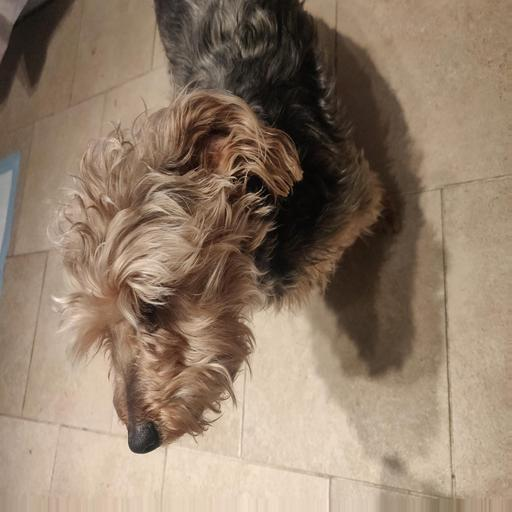dog: (20, 93, 383, 456)
